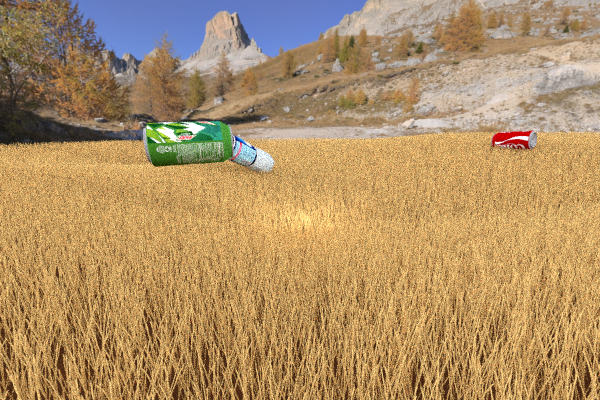bottle: (196, 128, 274, 174)
can: (143, 121, 233, 166), (491, 130, 537, 149)
